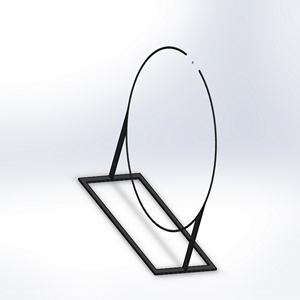circle: (75, 43, 226, 276)
